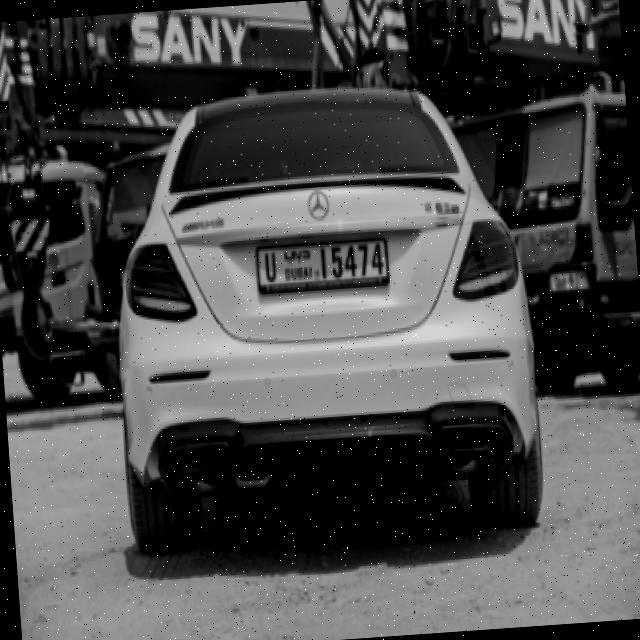Autre: (252, 231, 396, 289)
